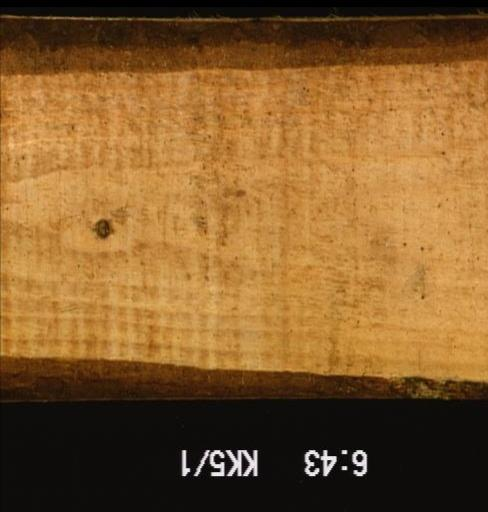dry_knot: (95, 218, 110, 240)
wave: (0, 15, 486, 76), (0, 355, 486, 399)
